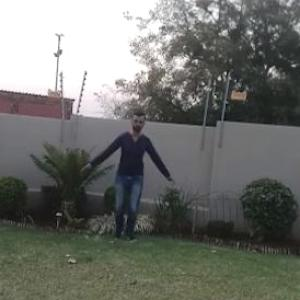land: (77, 110, 187, 254)
